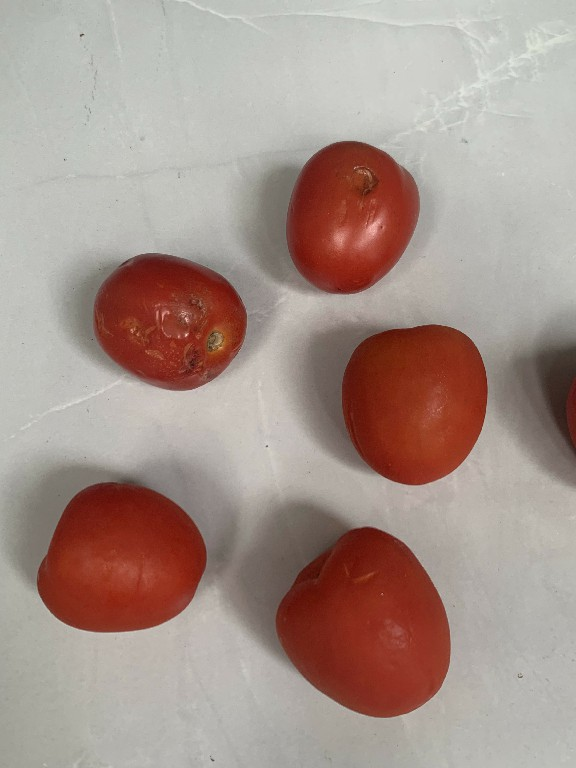NG: (275, 135, 429, 305), (87, 244, 248, 401)
OK: (273, 519, 459, 728), (29, 479, 242, 643), (339, 316, 493, 493)
